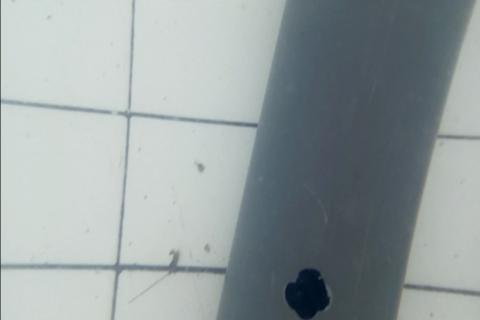kebocoran: (283, 265, 333, 320)
